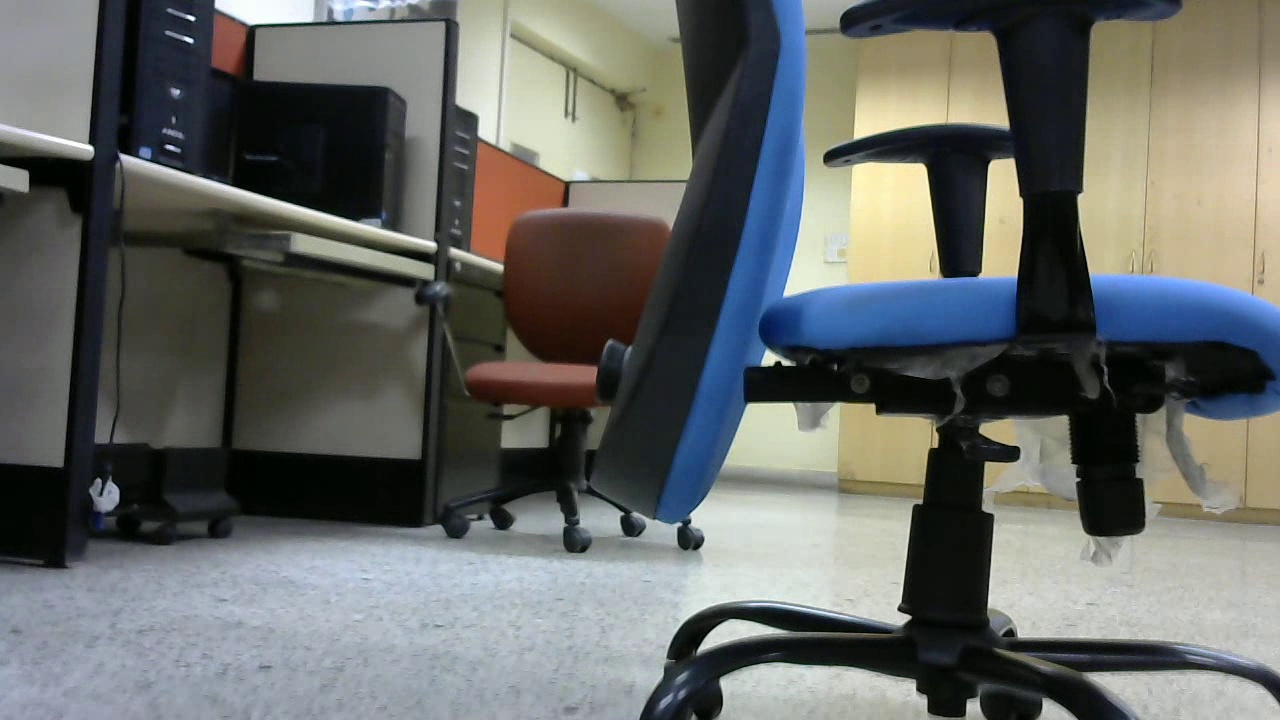chair: (419, 201, 708, 557)
